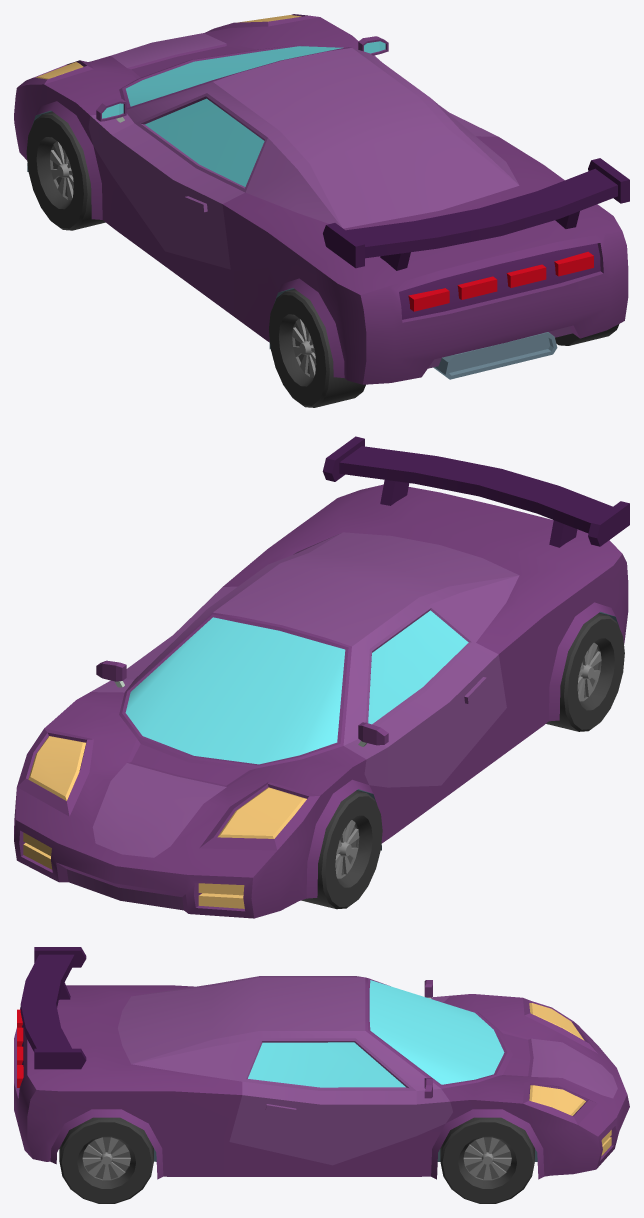
File: Car_5.fbx
3 renders of one model, top to bottom at view 1: azimuth 30°, elevation 25°; view 2: azimuth 150°, elevation 25°; view 3: azimuth 270°, elevation 25°, orthographic. The views are drawn at different scales.
Visible parts, largest first — view 1: Body, Door_Left, Wheel_BackLeft, Wheel_ForwardLeft, Hood; view 2: Body, Door_Left, Hood, Wheel_ForwardLeft, Wheel_BackLeft, Door_Right; view 3: Body, Door_Right, Wheel_BackRight, Wheel_ForwardRight, Hood.
Part boxes in pixels (box(x1,y1,x2,y2)): Body: box(14, 14, 629, 384); Door_Left: box(111, 93, 267, 269); Wheel_BackLeft: box(269, 289, 365, 407); Wheel_ForwardLeft: box(26, 112, 105, 230); Hood: box(111, 33, 226, 67); Body: box(14, 436, 629, 918); Door_Left: box(365, 604, 506, 787); Hood: box(92, 763, 226, 857); Wheel_ForwardLeft: box(301, 790, 382, 909); Wheel_BackLeft: box(546, 613, 624, 731); Door_Right: box(125, 586, 237, 679); Body: box(14, 947, 629, 1179); Door_Right: box(229, 1038, 416, 1165); Wheel_BackRight: box(59, 1117, 153, 1203); Wheel_ForwardRight: box(440, 1117, 534, 1203); Hood: box(531, 1038, 617, 1098).
Size of the model in its own units: 2.1 by 4.77 by 1.26.
